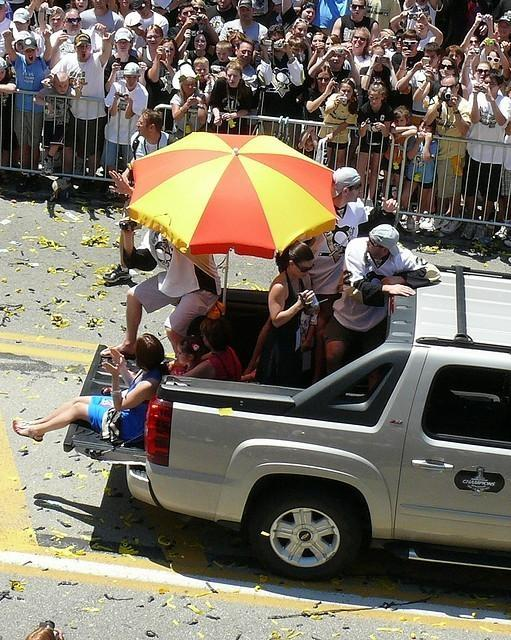car: (124, 264, 511, 582)
truck: (62, 266, 511, 580)
